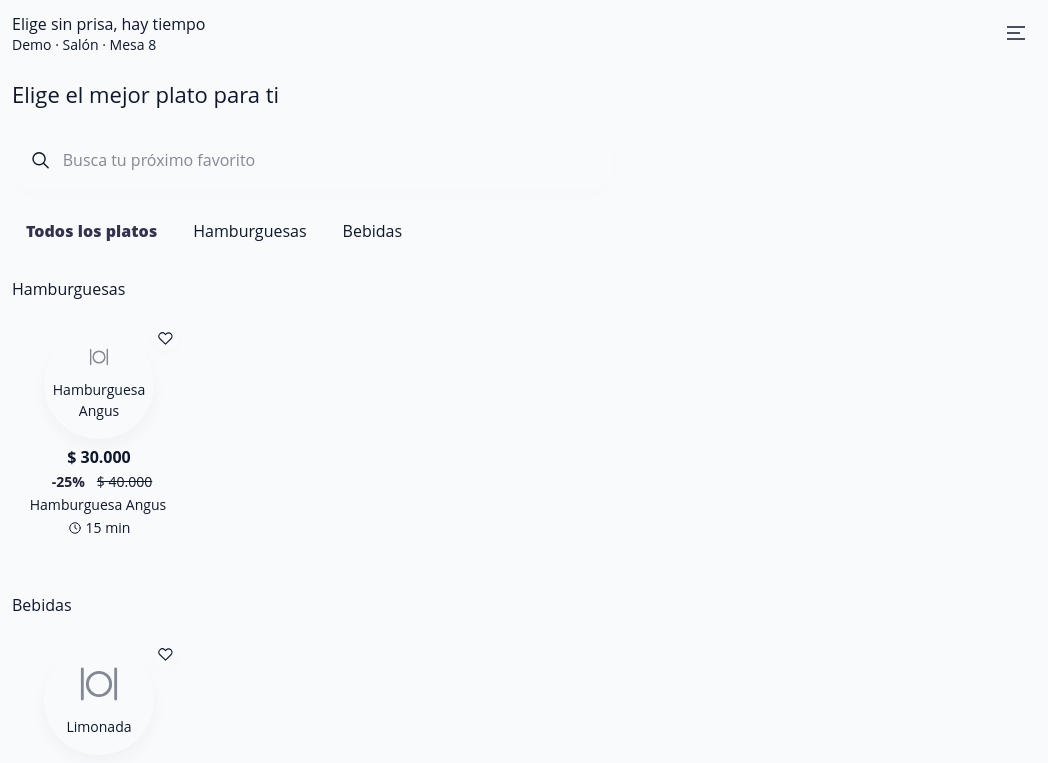
Test case: shows price first, the struck previous price with its percentage and the preparation time
Click the button "Hamburguesas" at x=250, y=231, box [179,209,321,253]
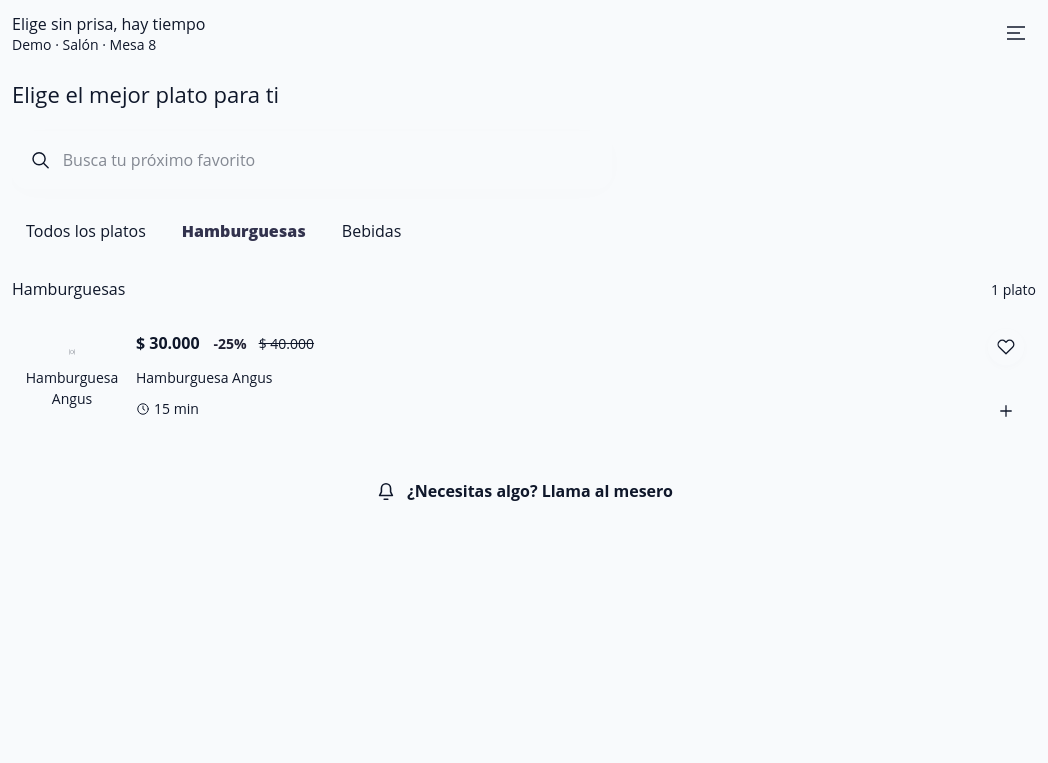
expect the text "-25%" is shown: met, box [214,334,247,353]
expect the text named "Antes $ 40.000" is shown: met, box [259,335,314,353]
Click the button "Bebidas" at x=372, y=231, box [328,209,415,253]
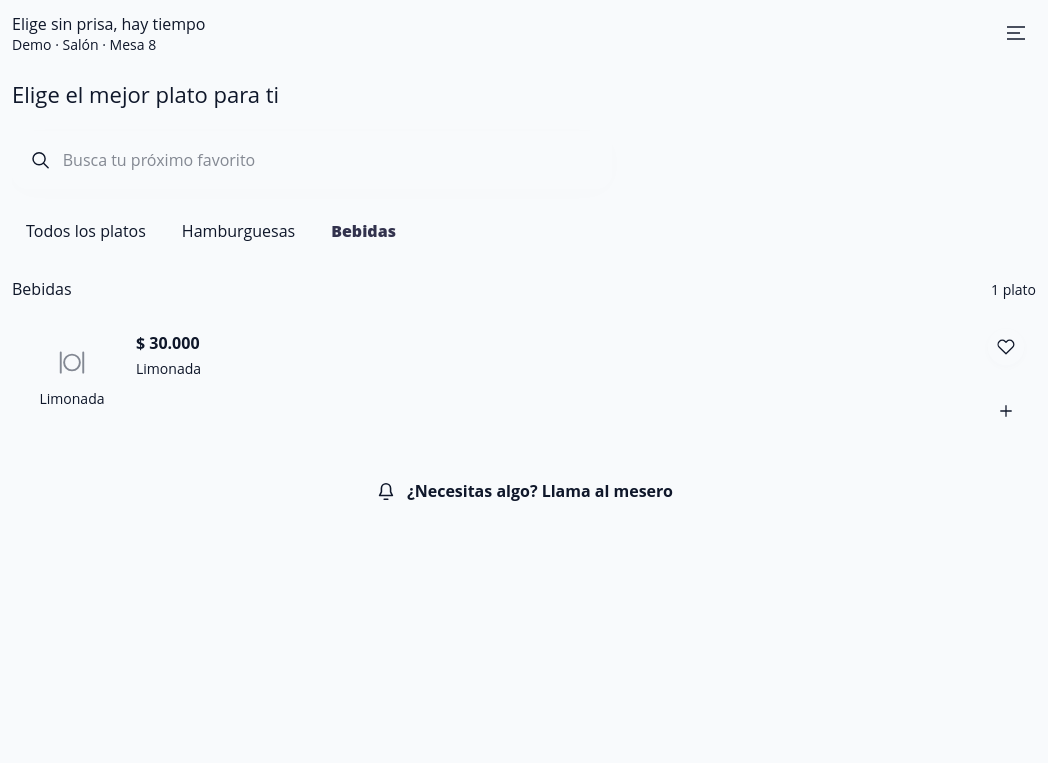
expect the link "%" is gone: met
expect the link "min" is gone: met
